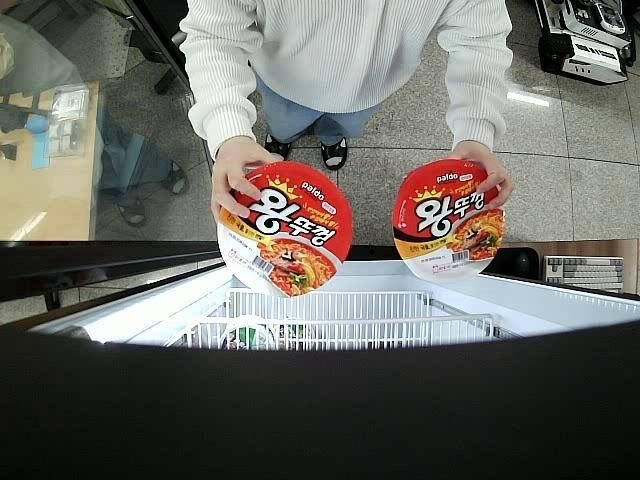10_wangTtukkeong: (218, 163, 352, 298), (393, 158, 504, 276)
